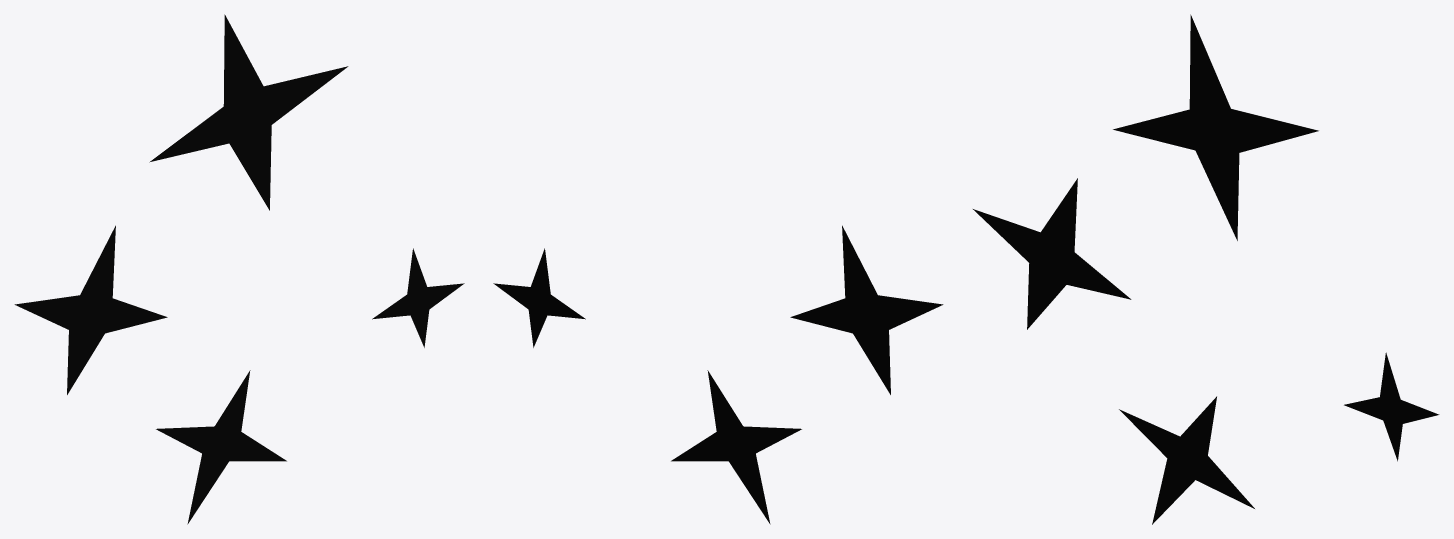
Rendered from symbol-type-Spell.glb.
The picture shows the model from 3 angles, left to right: view 1: azimuth 30°, elevation 25°; view 2: azimuth 150°, elevation 25°; view 3: azimuth 330°, elevation 25°; orthographic projection. The views are drawn at different scales.
Parts seen in each view (by area): view 1: symbol-type-spell; view 2: symbol-type-spell; view 3: symbol-type-spell.
Boxes of the visible parts, x1,y1,x2,y2 form: symbol-type-spell: (14,14,464,524); symbol-type-spell: (493,225,943,524); symbol-type-spell: (973,14,1439,524).
Bounding box in the file's own units: 1.3 × 1.39 × 1.79e-07.
Materials: 1 (1 with a texture image).
